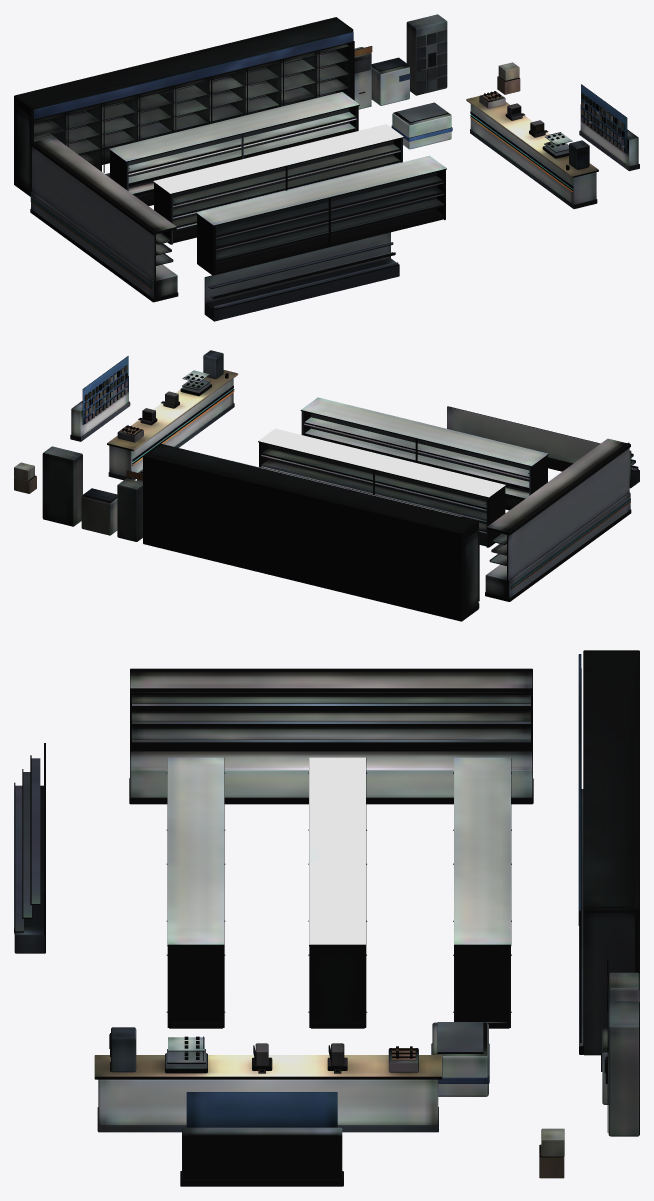
The model's file is interior-fixtures.glb.
3 views of the same model, one above another, from view 1: azimuth 30°, elevation 25°; view 2: azimuth 150°, elevation 25°; view 3: azimuth 270°, elevation 25° (orthographic). The views are drawn at different scales.
Parts seen in each view (by area): view 1: Konbini | baked static fixtures; view 2: Konbini | baked static fixtures; view 3: Konbini | baked static fixtures.
Part boxes in pixels (x1=…): Konbini | baked static fixtures: x1=14, y1=14, x2=639, y2=321; Konbini | baked static fixtures: x1=14, y1=350, x2=639, y2=621; Konbini | baked static fixtures: x1=14, y1=650, x2=639, y2=1186.
Size of the model in its own units: 15.15 by 2.58 by 9.94.
14 materials, 14 textured.
